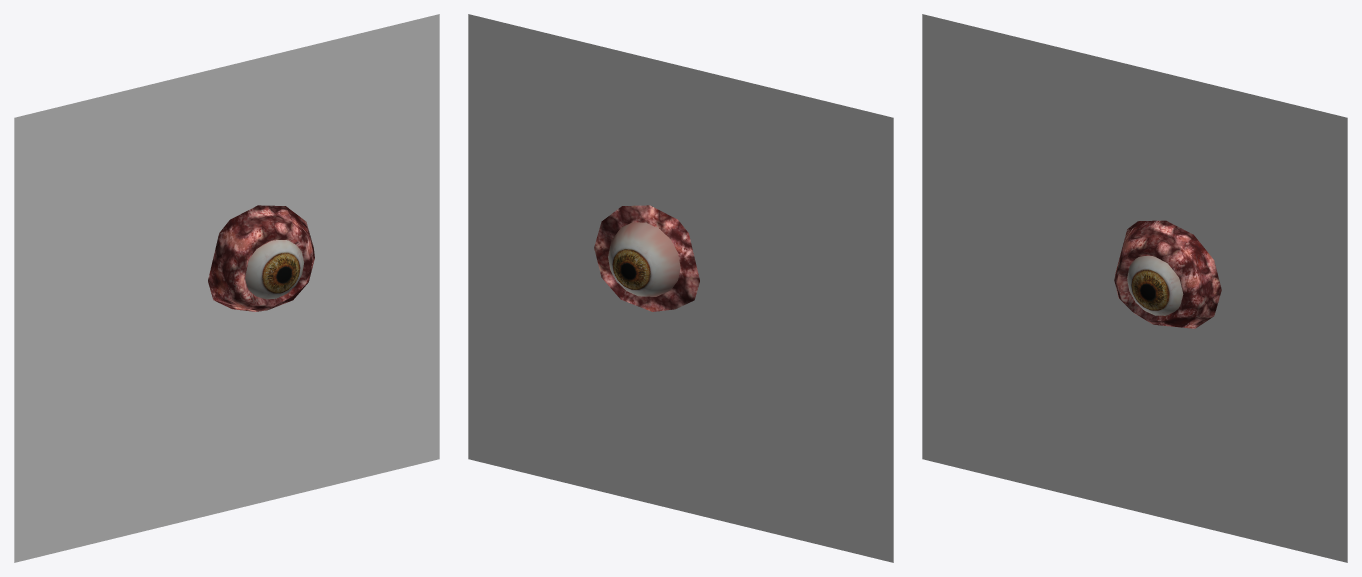
The model's file is Eye in wall.fbx.
The picture shows the model from 3 angles, left to right: view 1: azimuth 30°, elevation 25°; view 2: azimuth 150°, elevation 25°; view 3: azimuth 330°, elevation 25°; orthographic projection.
Parts seen in each view (by area): view 1: Blood splatter, Flesh, Eye; view 2: Blood splatter, Flesh, Eye; view 3: Blood splatter, Flesh, Eye.
Part boxes in pixels (left/top/right/bottom): Blood splatter: left=14, top=14, right=439, bottom=562; Flesh: left=208, top=205, right=314, bottom=311; Eye: left=245, top=240, right=304, bottom=299; Blood splatter: left=468, top=14, right=893, bottom=562; Flesh: left=594, top=205, right=699, bottom=311; Eye: left=608, top=222, right=680, bottom=296; Blood splatter: left=922, top=14, right=1347, bottom=562; Flesh: left=1114, top=220, right=1221, bottom=328; Eye: left=1127, top=256, right=1183, bottom=315.
Bounding box in the file's own units: 1.29 × 1.29 × 0.2137.
